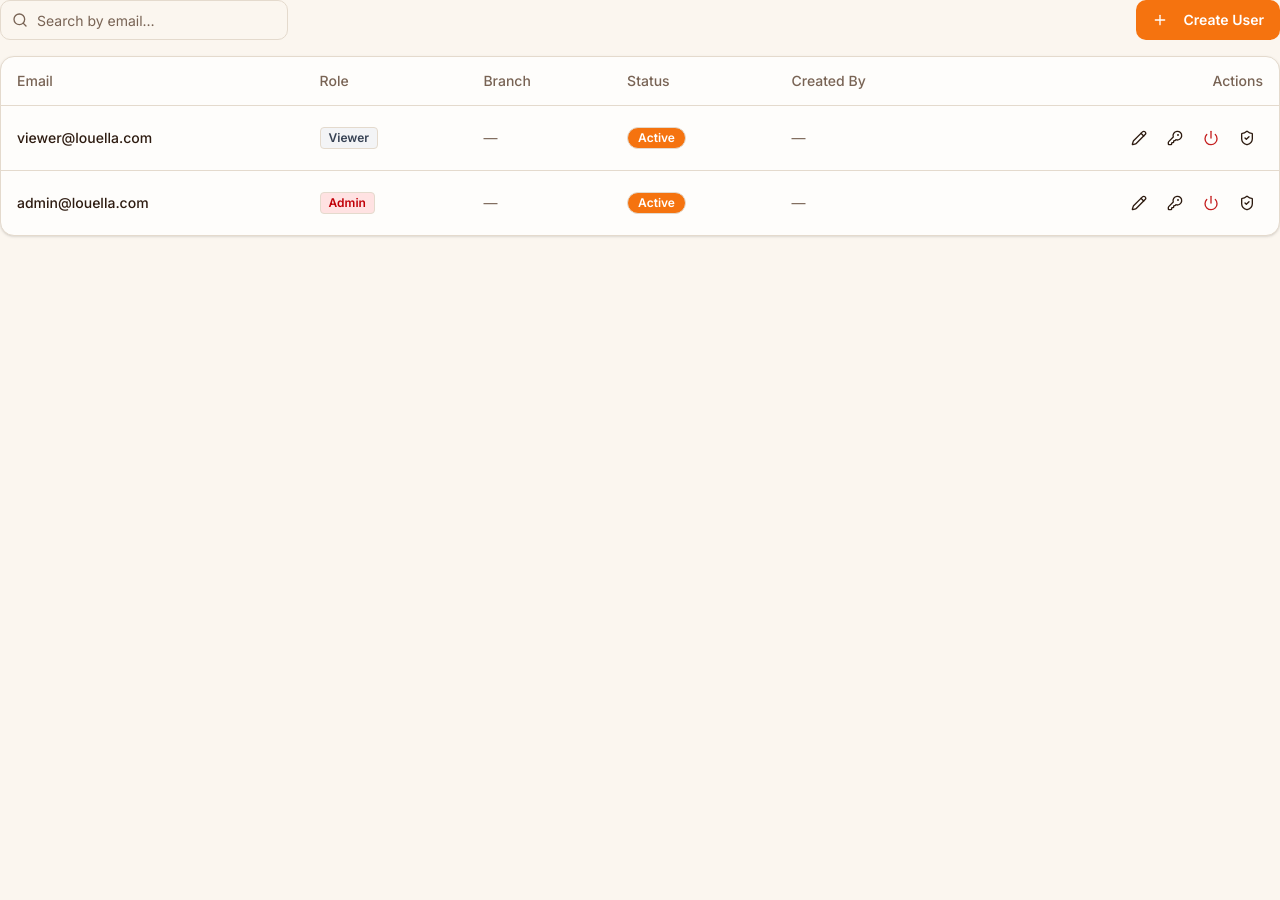
Test case: Users screen — access-aware creation › reflects role-level overrides in the preview, not just the code defaults
The width and height of the screenshot is (1280, 900).
Click the button "Create User": point(1208, 20) [1136,0,1279,40]
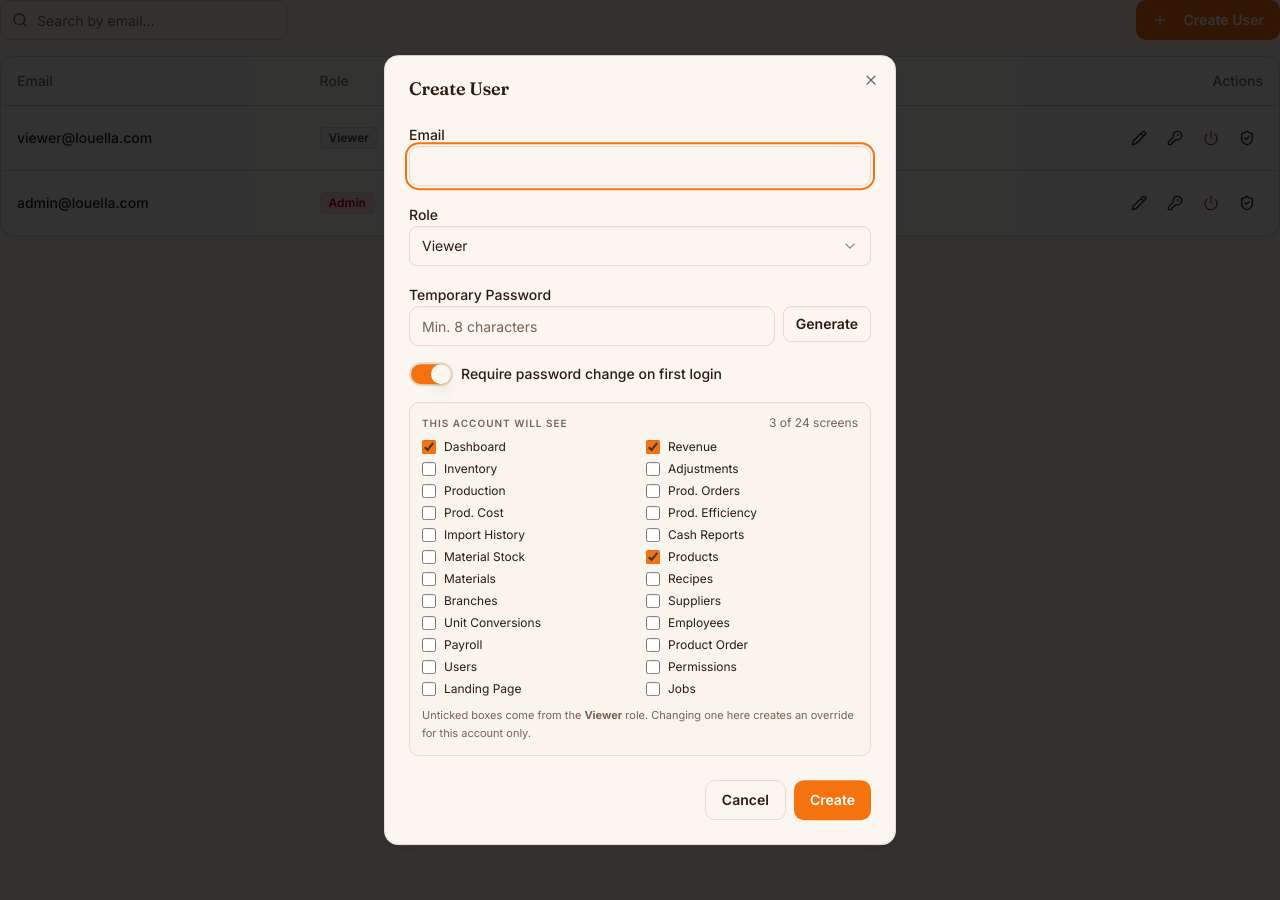
Now the checkbox labelled "Products" is checked, box [646,550,660,564]
